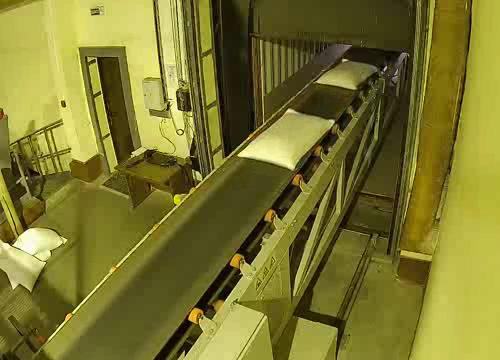bag: (236, 107, 336, 175), (314, 57, 379, 94)
